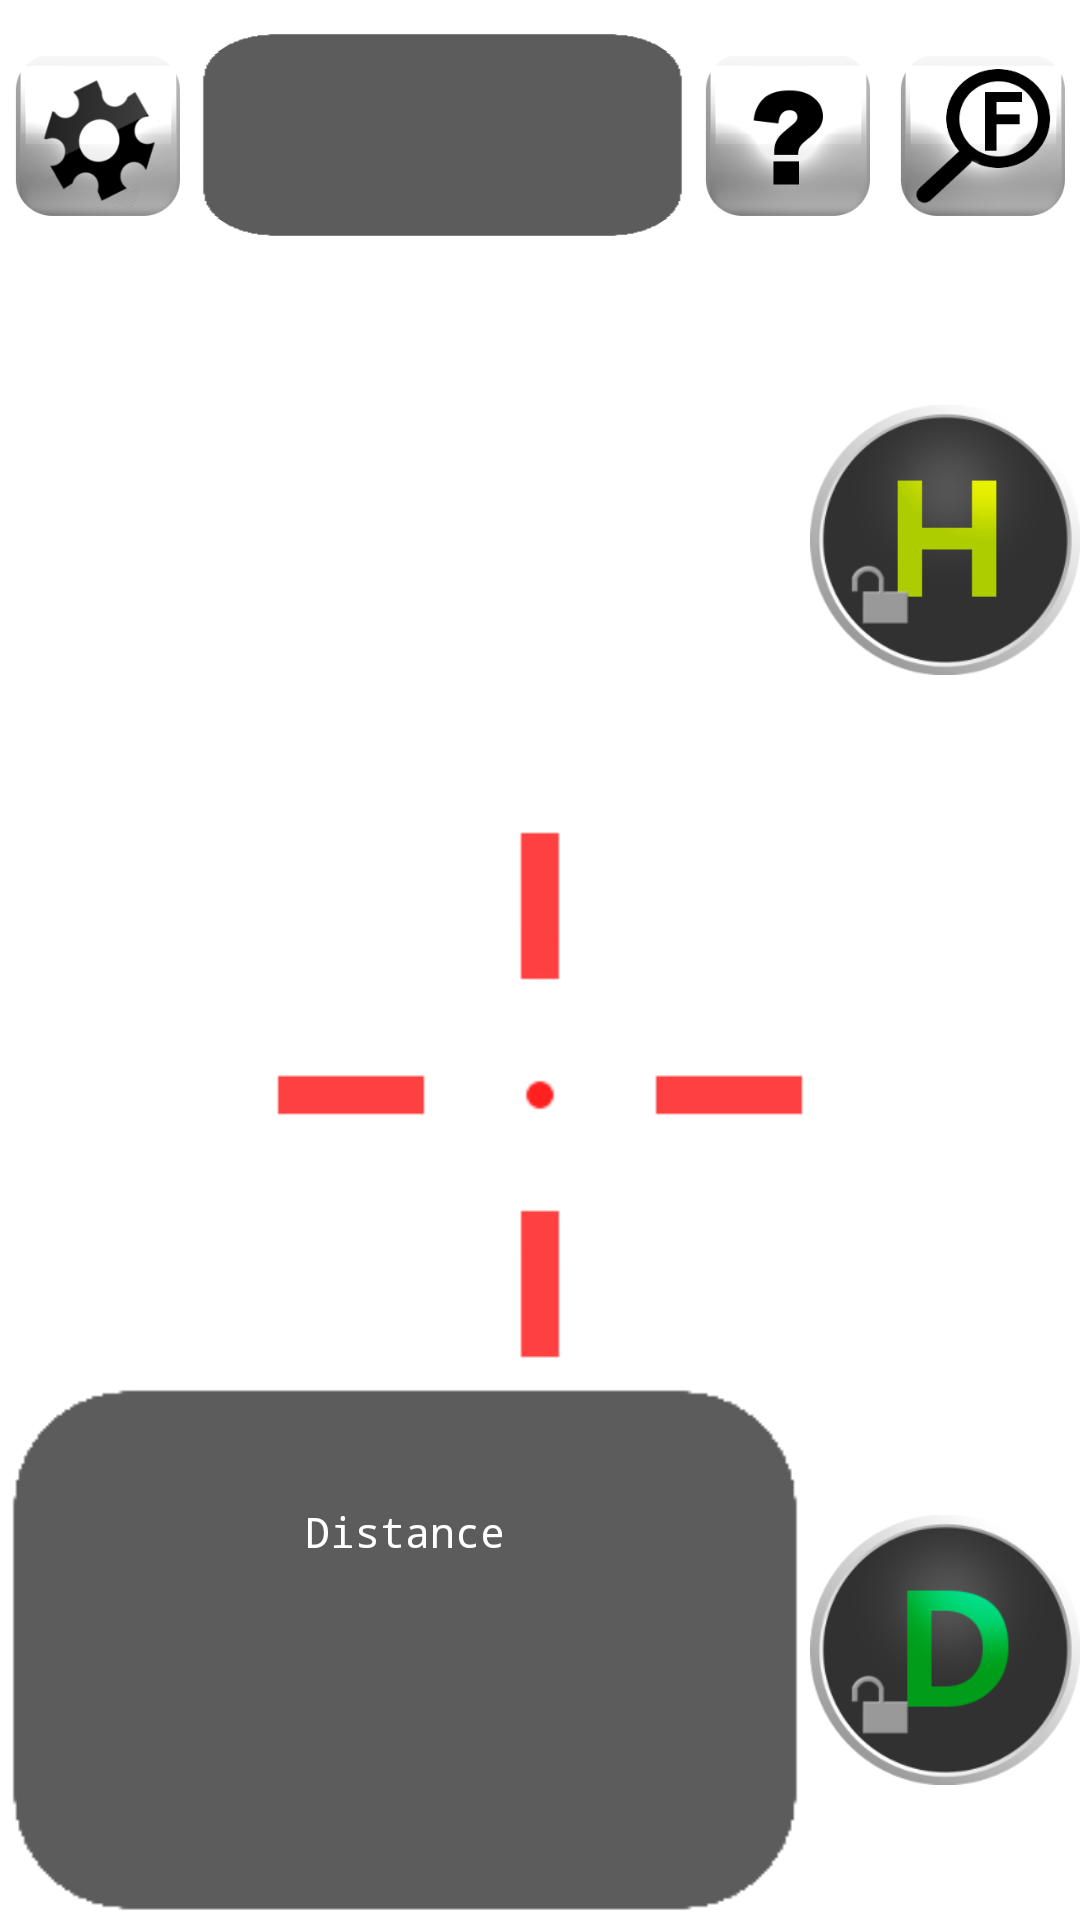

Icon click points for this 1080px×1920px phone screenshot, format (x=x, y=y):
focus: (x=983, y=142)
howto: (x=788, y=144)
setting: (x=98, y=144)
